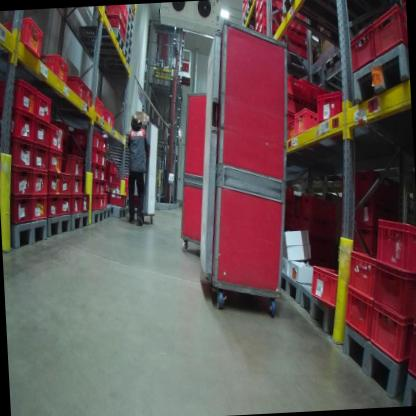pallet: (339, 319, 408, 402), (351, 41, 411, 120), (280, 0, 353, 51), (297, 280, 335, 337), (76, 21, 126, 55), (10, 216, 50, 254), (91, 43, 131, 68), (274, 272, 302, 306), (43, 213, 72, 239), (323, 46, 342, 78), (285, 52, 310, 71), (403, 372, 416, 404), (71, 211, 90, 231), (237, 8, 249, 28), (90, 207, 104, 224), (110, 201, 124, 216), (125, 27, 134, 46), (244, 0, 256, 13), (127, 13, 135, 32), (124, 38, 132, 56), (128, 6, 135, 24), (103, 204, 111, 218), (127, 21, 134, 37), (125, 196, 133, 208), (126, 208, 131, 215)
small_load_carrier: (370, 255, 416, 322), (370, 298, 414, 367), (371, 213, 416, 279), (369, 0, 408, 58), (1, 12, 44, 62), (345, 247, 383, 302), (310, 258, 348, 311), (313, 90, 358, 134), (290, 186, 339, 225), (0, 99, 36, 150), (356, 166, 392, 212), (344, 287, 374, 338), (356, 197, 399, 232), (348, 21, 379, 69), (0, 76, 37, 116), (30, 50, 68, 86), (64, 143, 102, 170), (293, 105, 320, 141), (8, 186, 34, 223), (284, 70, 312, 104), (66, 73, 91, 110), (98, 10, 126, 42), (9, 162, 35, 196), (34, 86, 55, 128), (401, 326, 416, 384), (31, 137, 50, 175), (27, 163, 48, 196), (32, 115, 50, 151), (97, 5, 126, 27), (12, 138, 33, 168), (355, 223, 375, 253), (46, 119, 64, 152), (60, 154, 83, 178), (75, 127, 102, 147), (47, 146, 66, 174), (44, 171, 63, 198), (106, 188, 129, 210), (31, 195, 49, 222), (285, 90, 308, 111), (113, 181, 133, 202), (92, 89, 105, 120), (76, 190, 92, 214), (46, 190, 61, 215), (60, 188, 73, 216), (113, 170, 132, 189), (104, 104, 116, 130), (71, 193, 84, 215), (62, 169, 72, 197), (99, 193, 111, 214), (88, 163, 100, 182), (88, 191, 101, 208), (285, 121, 296, 141), (72, 174, 84, 191), (113, 5, 128, 18), (100, 132, 108, 154), (90, 182, 101, 196), (100, 151, 109, 167), (99, 165, 107, 181), (99, 180, 108, 193), (286, 110, 294, 123)
